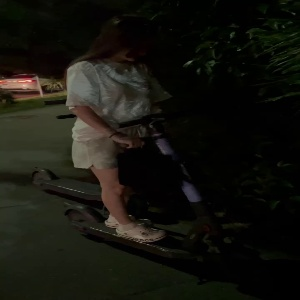human on a scooter: (60, 12, 263, 282)
